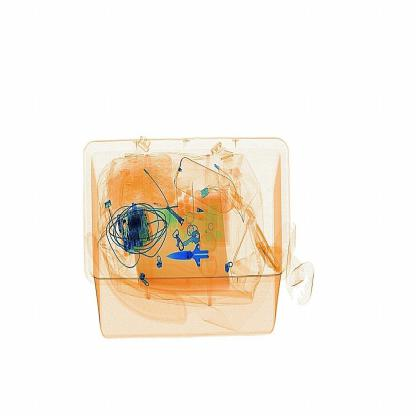gun: (158, 231, 226, 279)
